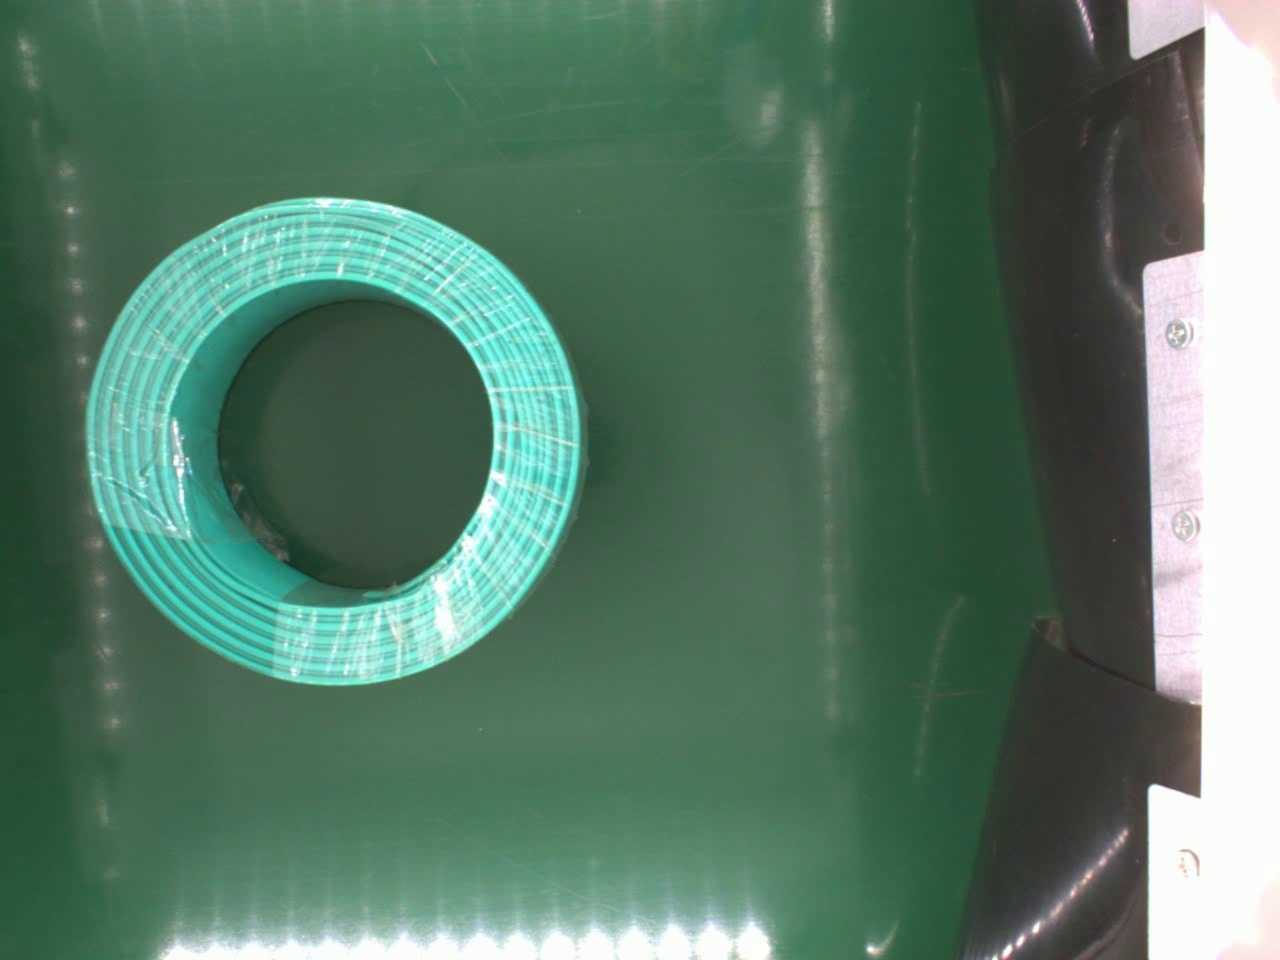green: (80, 194, 585, 692)
